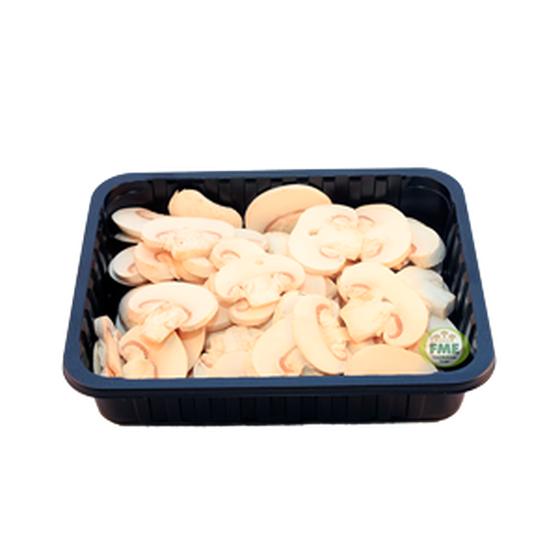champignon: (334, 270, 426, 348), (132, 280, 219, 347), (289, 203, 364, 273)
